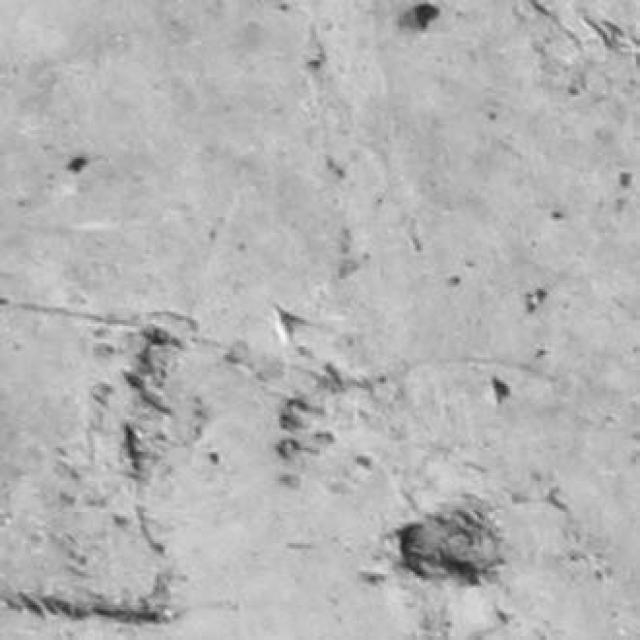crack: (396, 496, 502, 584), (0, 592, 175, 623), (126, 324, 180, 413), (124, 423, 140, 479)
